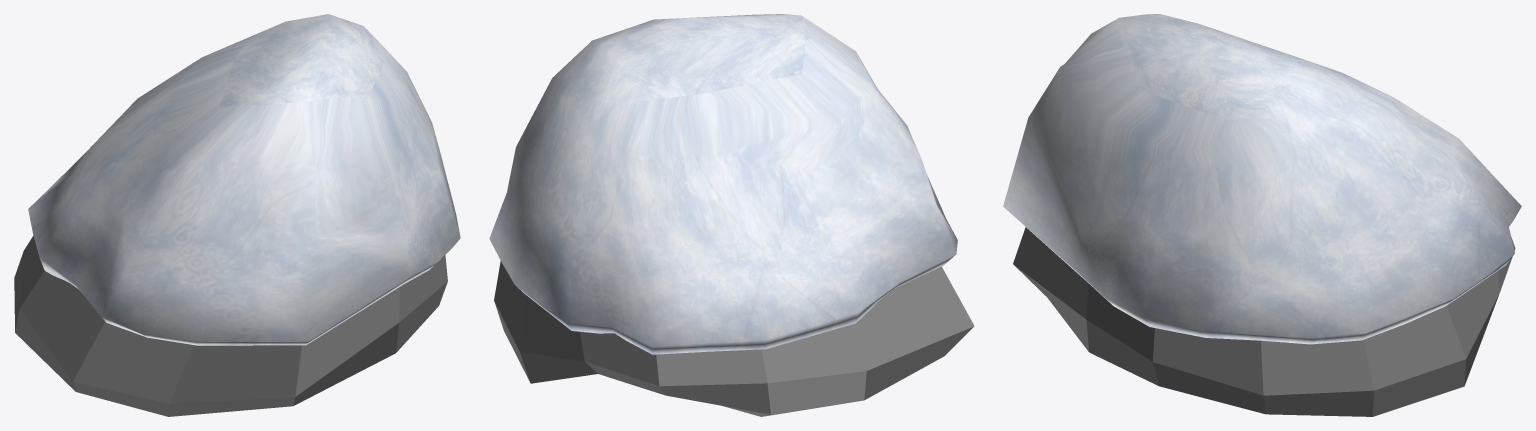
File: Stone 1.glb
The picture shows the model from 3 angles, left to right: view 1: azimuth 30°, elevation 25°; view 2: azimuth 150°, elevation 25°; view 3: azimuth 270°, elevation 25°; orthographic projection. The views are drawn at different scales.
Visible parts, largest first — view 1: Cube.002; view 2: Cube.002; view 3: Cube.002.
Boxes of the visible parts, x1=… form: Cube.002: x1=14, y1=14, x2=460, y2=416; Cube.002: x1=489, y1=14, x2=974, y2=416; Cube.002: x1=1003, y1=14, x2=1521, y2=416.
Size of the model in its own units: 1.84 by 1.35 by 1.84.
Materials: 2 (1 with a texture image).
